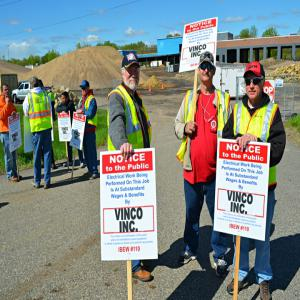blue: (81, 80, 91, 98)
none: (245, 62, 265, 102), (122, 52, 140, 90), (199, 51, 216, 87), (30, 76, 40, 91), (2, 84, 11, 99), (61, 92, 70, 104)
